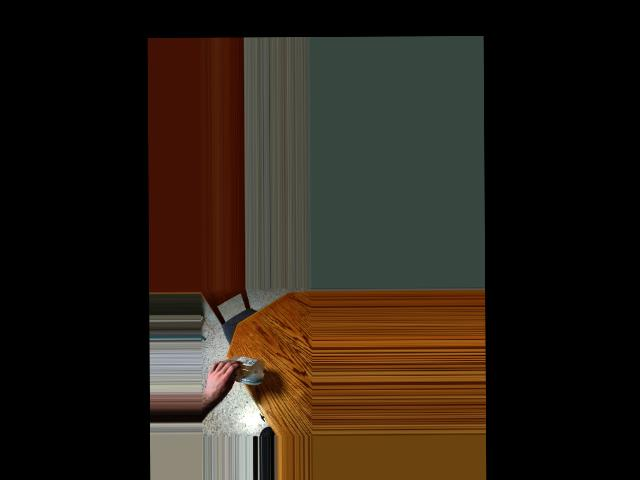cheese: (218, 354, 256, 388)
